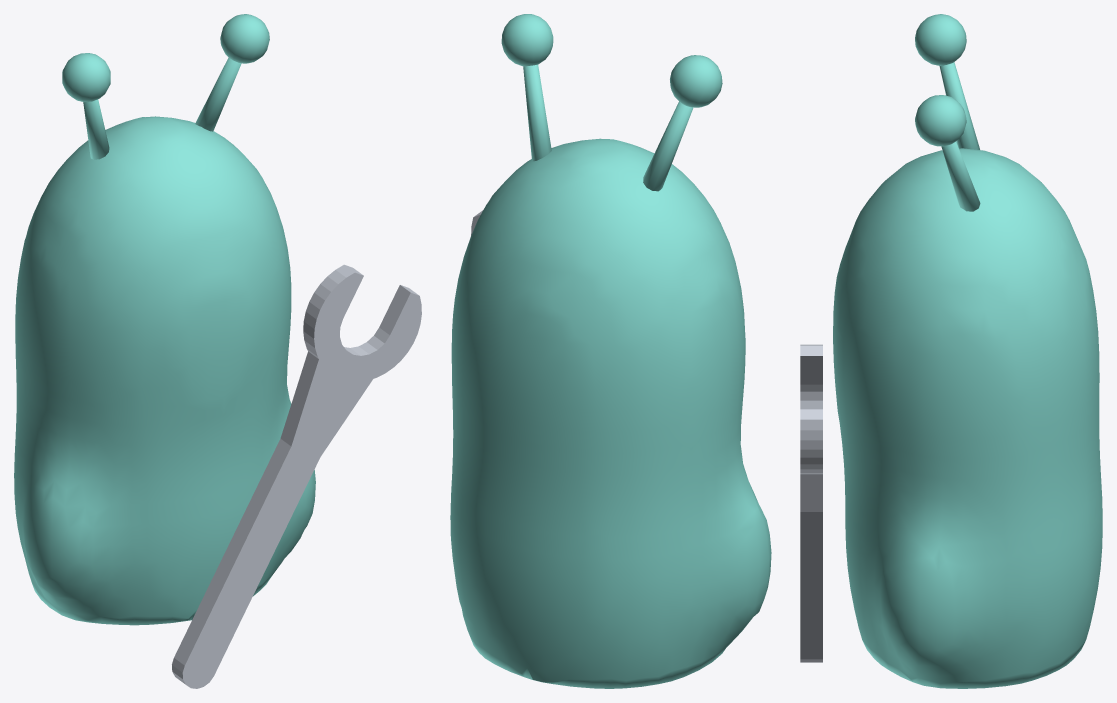
Rendered from head_mechanic.glb.
The picture shows the model from 3 angles, left to right: view 1: azimuth 30°, elevation 25°; view 2: azimuth 150°, elevation 25°; view 3: azimuth 270°, elevation 25°; orthographic projection. The views are drawn at different scales.
Parts seen in each view (by area): view 1: MechanicHead, MechanicWrench, MechanicStalkRight, MechanicStalkLeft; view 2: MechanicHead, MechanicStalkLeft, MechanicStalkRight; view 3: MechanicHead, MechanicWrench, MechanicStalkRight, MechanicStalkLeft.
Part boxes in pixels (bbox=[...]): MechanicHead: bbox=[14, 116, 315, 625]; MechanicWrench: bbox=[172, 264, 421, 688]; MechanicStalkRight: bbox=[195, 14, 269, 131]; MechanicStalkLeft: bbox=[62, 53, 110, 159]; MechanicHead: bbox=[450, 138, 771, 688]; MechanicStalkLeft: bbox=[643, 55, 722, 191]; MechanicStalkRight: bbox=[501, 14, 553, 161]; MechanicHead: bbox=[833, 148, 1102, 688]; MechanicWrench: bbox=[800, 344, 822, 662]; MechanicStalkRight: bbox=[915, 95, 980, 211]; MechanicStalkLeft: bbox=[915, 14, 979, 149].
Bounding box in the file's own units: 0.4841 × 0.8433 × 0.3722.
